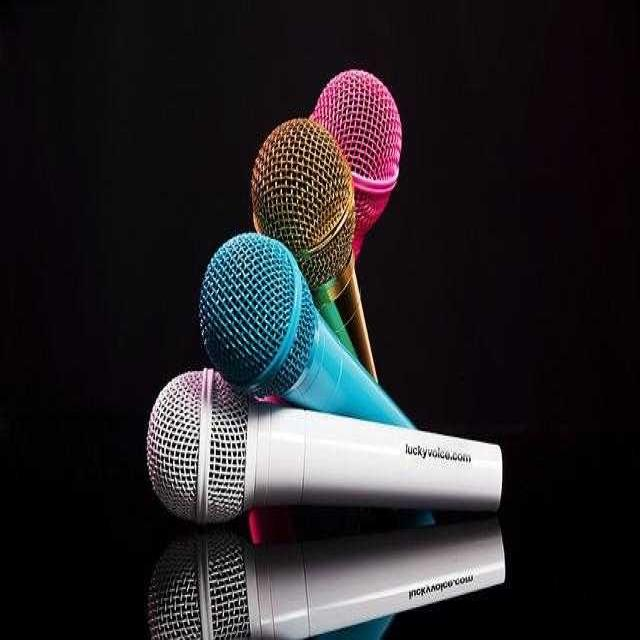microphone: (146, 368, 507, 536), (193, 224, 422, 433), (144, 531, 512, 640), (249, 118, 377, 382), (313, 66, 402, 262)
